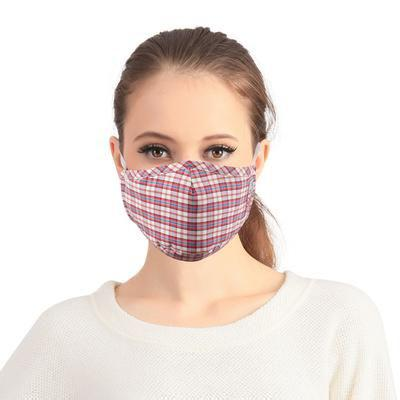OK: (128, 114, 261, 257)
